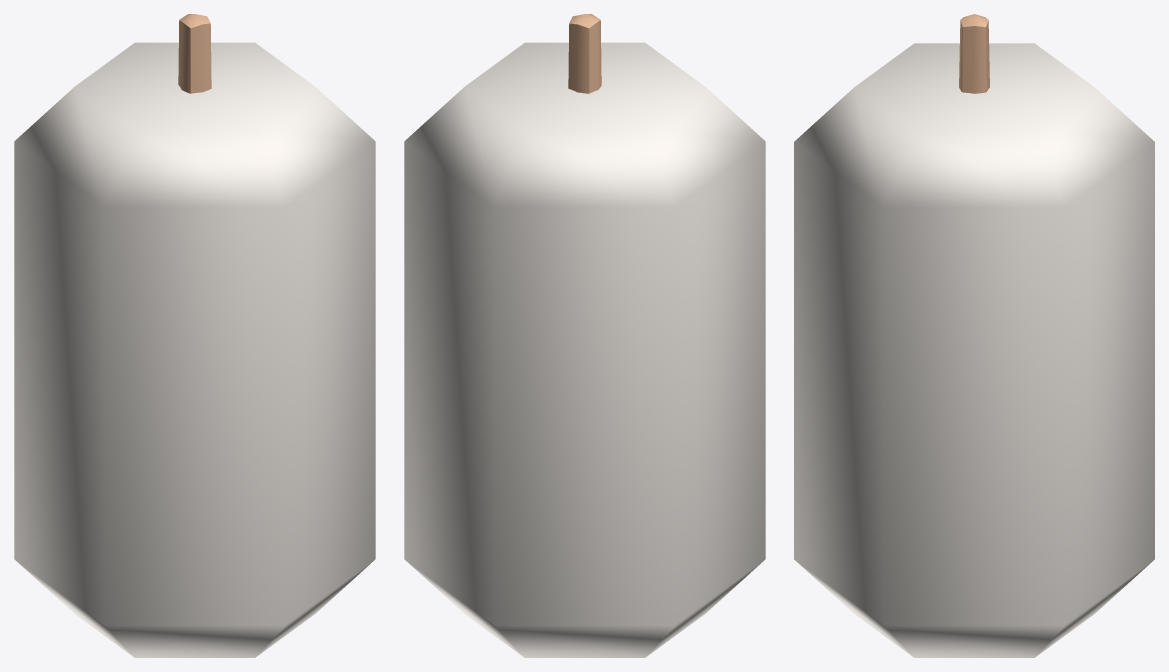
The model's file is paper-towels.glb.
3 views of the same model, side by side, from view 1: azimuth 30°, elevation 25°; view 2: azimuth 150°, elevation 25°; view 3: azimuth 270°, elevation 25° (orthographic).
Parts seen in each view (by area): view 1: part (×2); view 2: part (×2); view 3: part (×2).
Part boxes in pixels (x1,y1,x2,y2): part (×2): [14, 14, 375, 657]; part (×2): [404, 14, 765, 657]; part (×2): [794, 14, 1154, 657].
Bounding box in the file's own units: 0.265 × 0.561 × 0.306.
Materials: 1 (1 with a texture image).
